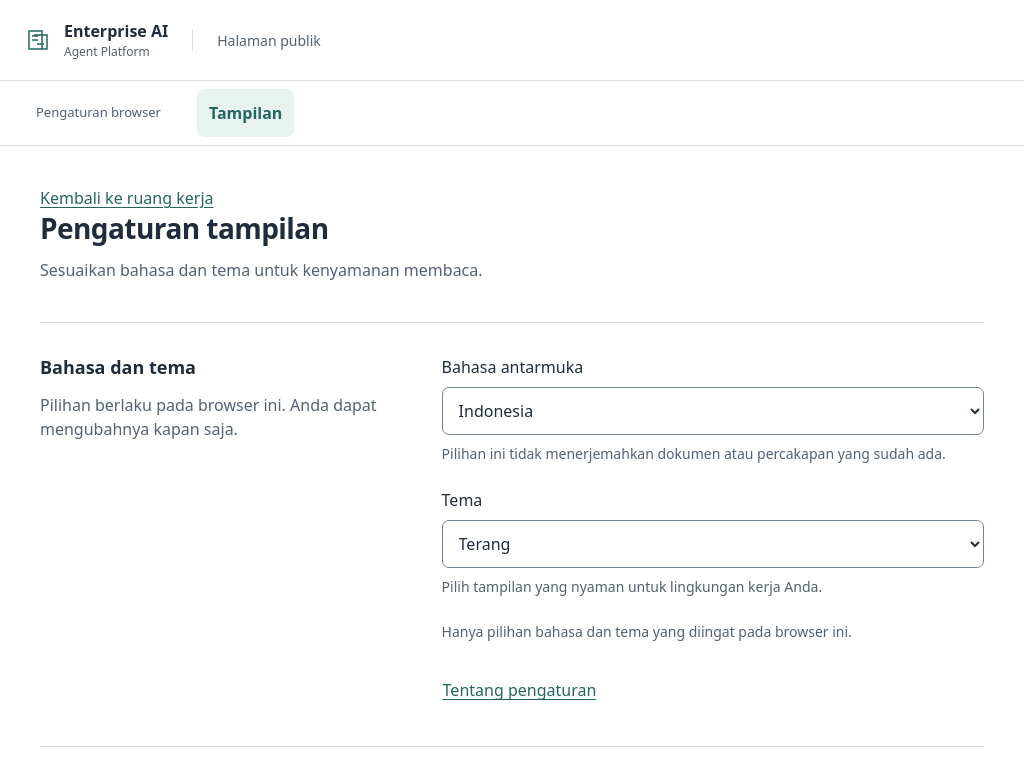
Scenario: keeps appearance public and supports English auth labels with enum-only preferences
Select "English" in the dropdown labelled "Bahasa antarmuka" at (713, 411), box x1=442 y1=387 x2=984 y2=435
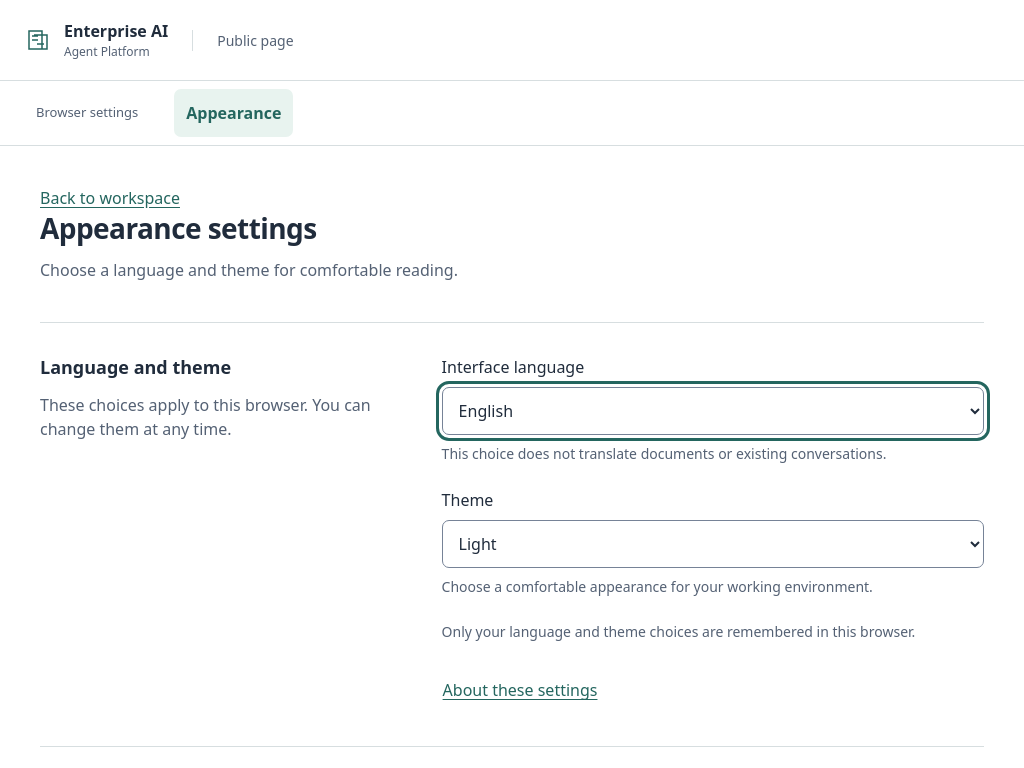
Select "Dark" in the dropdown labelled "Theme" at (713, 544), box x1=442 y1=520 x2=984 y2=568
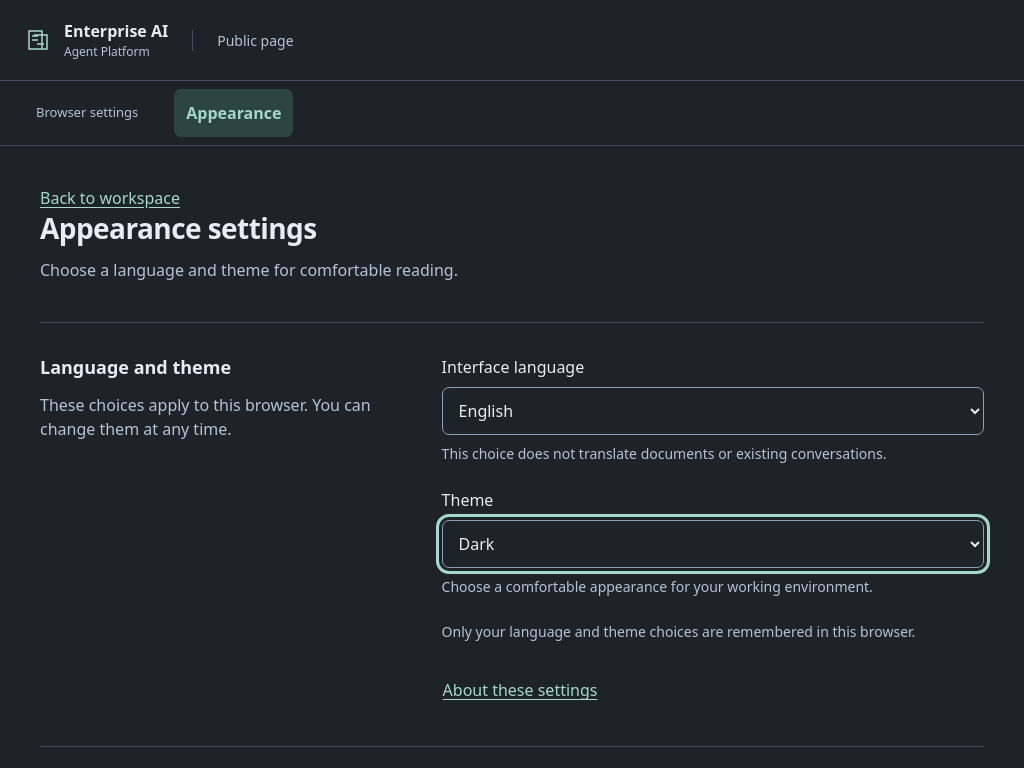
Click the link "Back to workspace" at (110, 198), box x1=40 y1=187 x2=180 y2=209
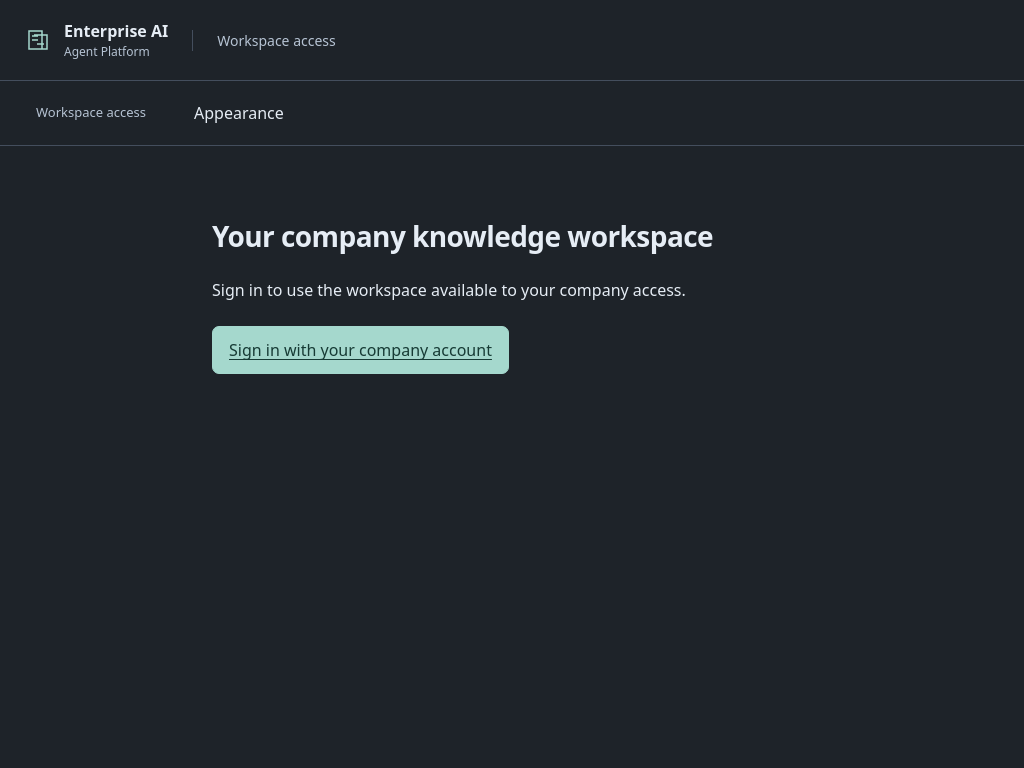
Result: the link "Sign in with your company account" is shown at x1=212 y1=326 x2=509 y2=374
